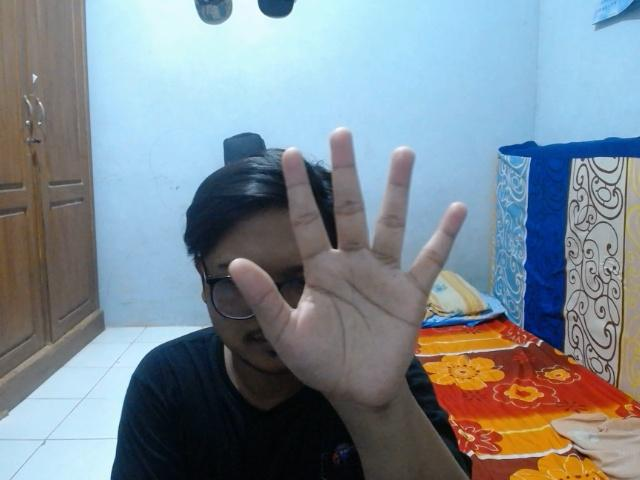Release: (223, 120, 470, 413)
